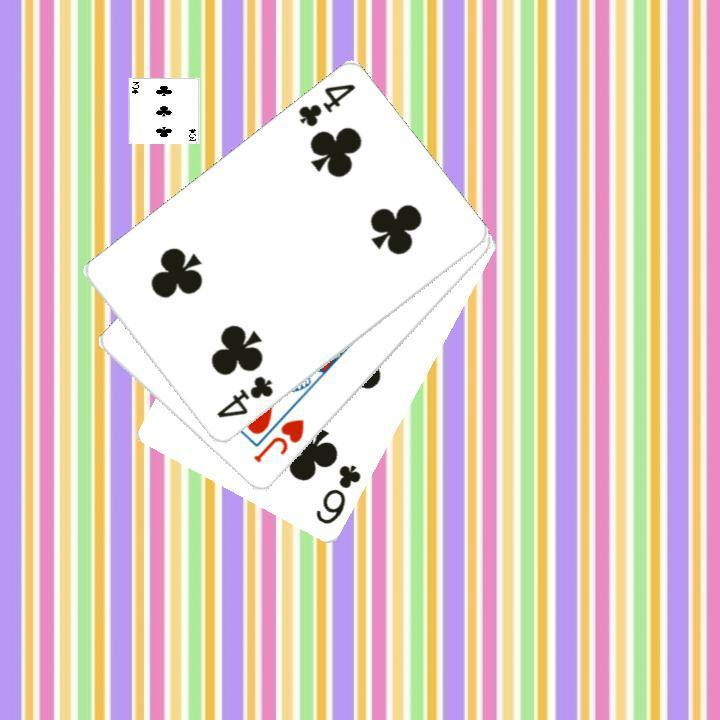4: (293, 79, 358, 130), (212, 371, 276, 421)
6: (311, 461, 364, 527)
J: (249, 415, 307, 466)
